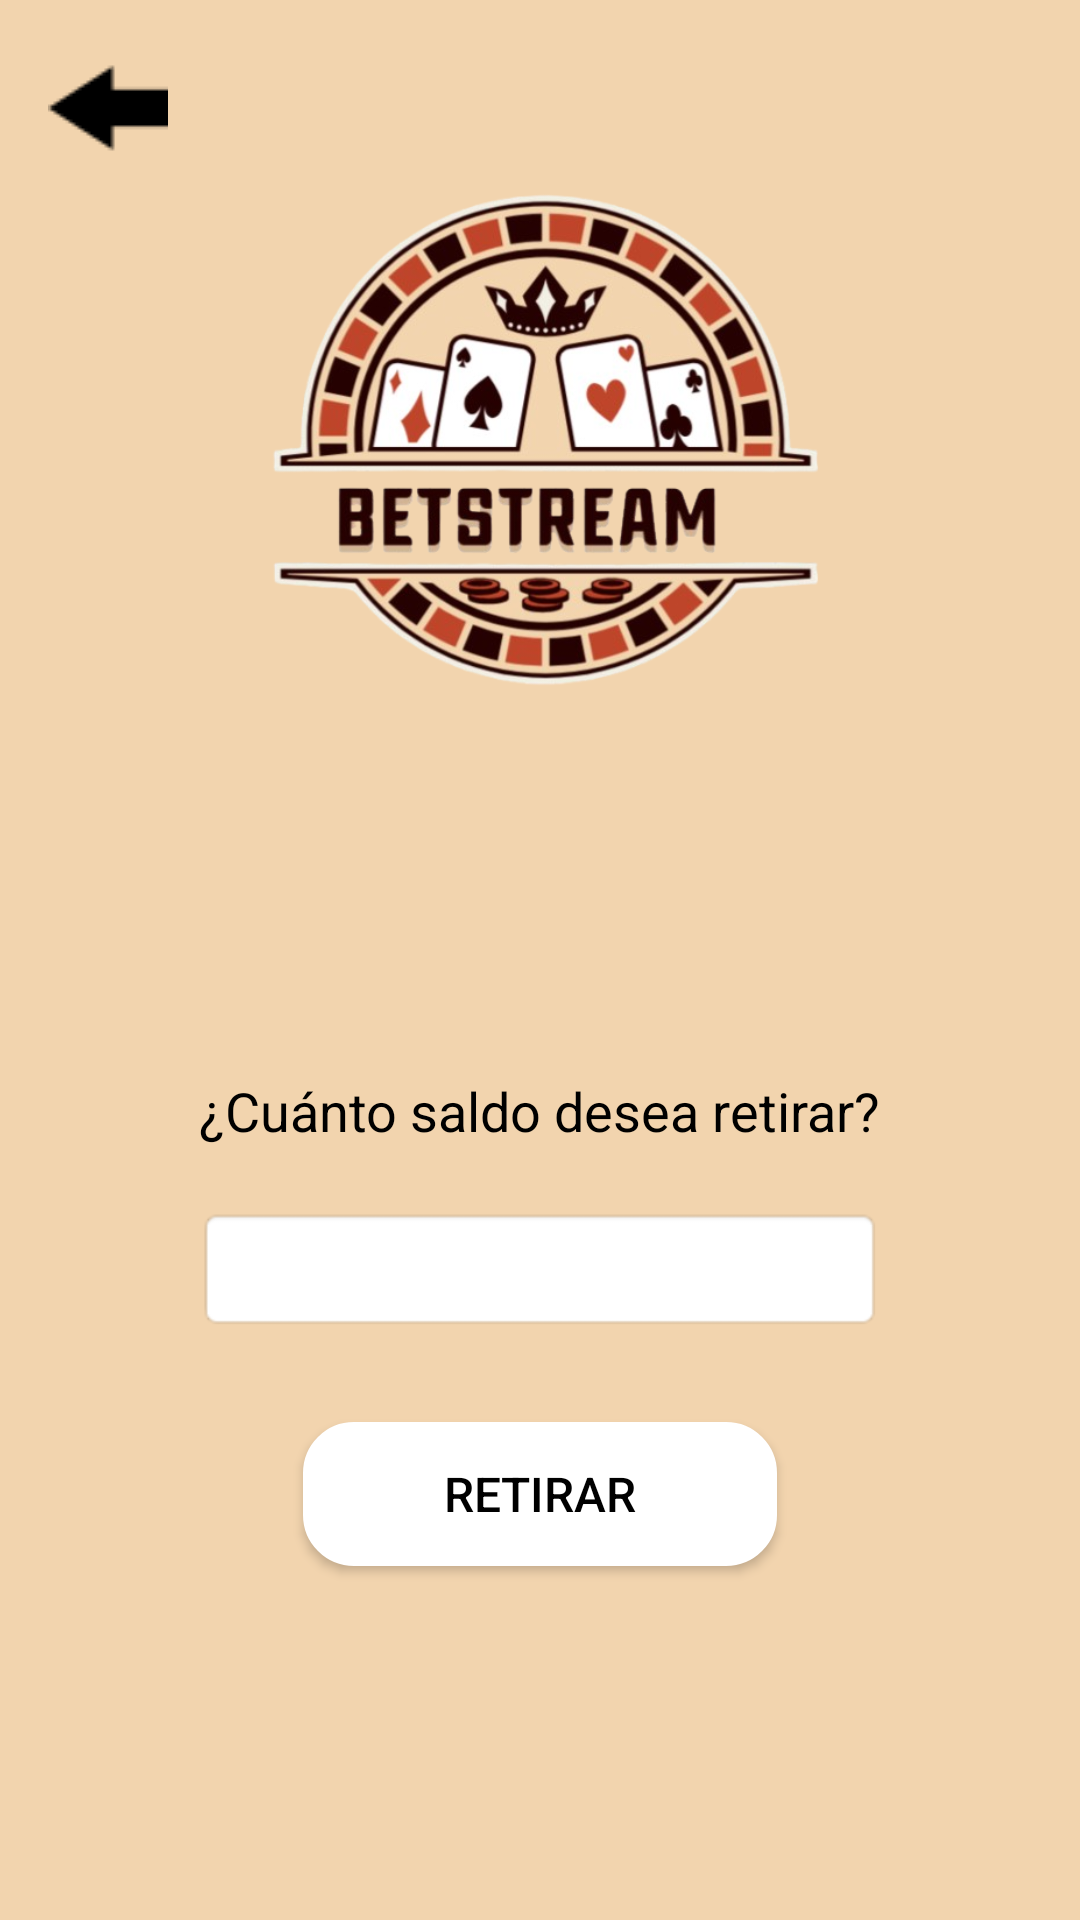

Locate icon controls on the screen. Image size 1080 x 1920, boxes as (x1, y1, x2, y2).
back arrow: (48, 65, 168, 151)
